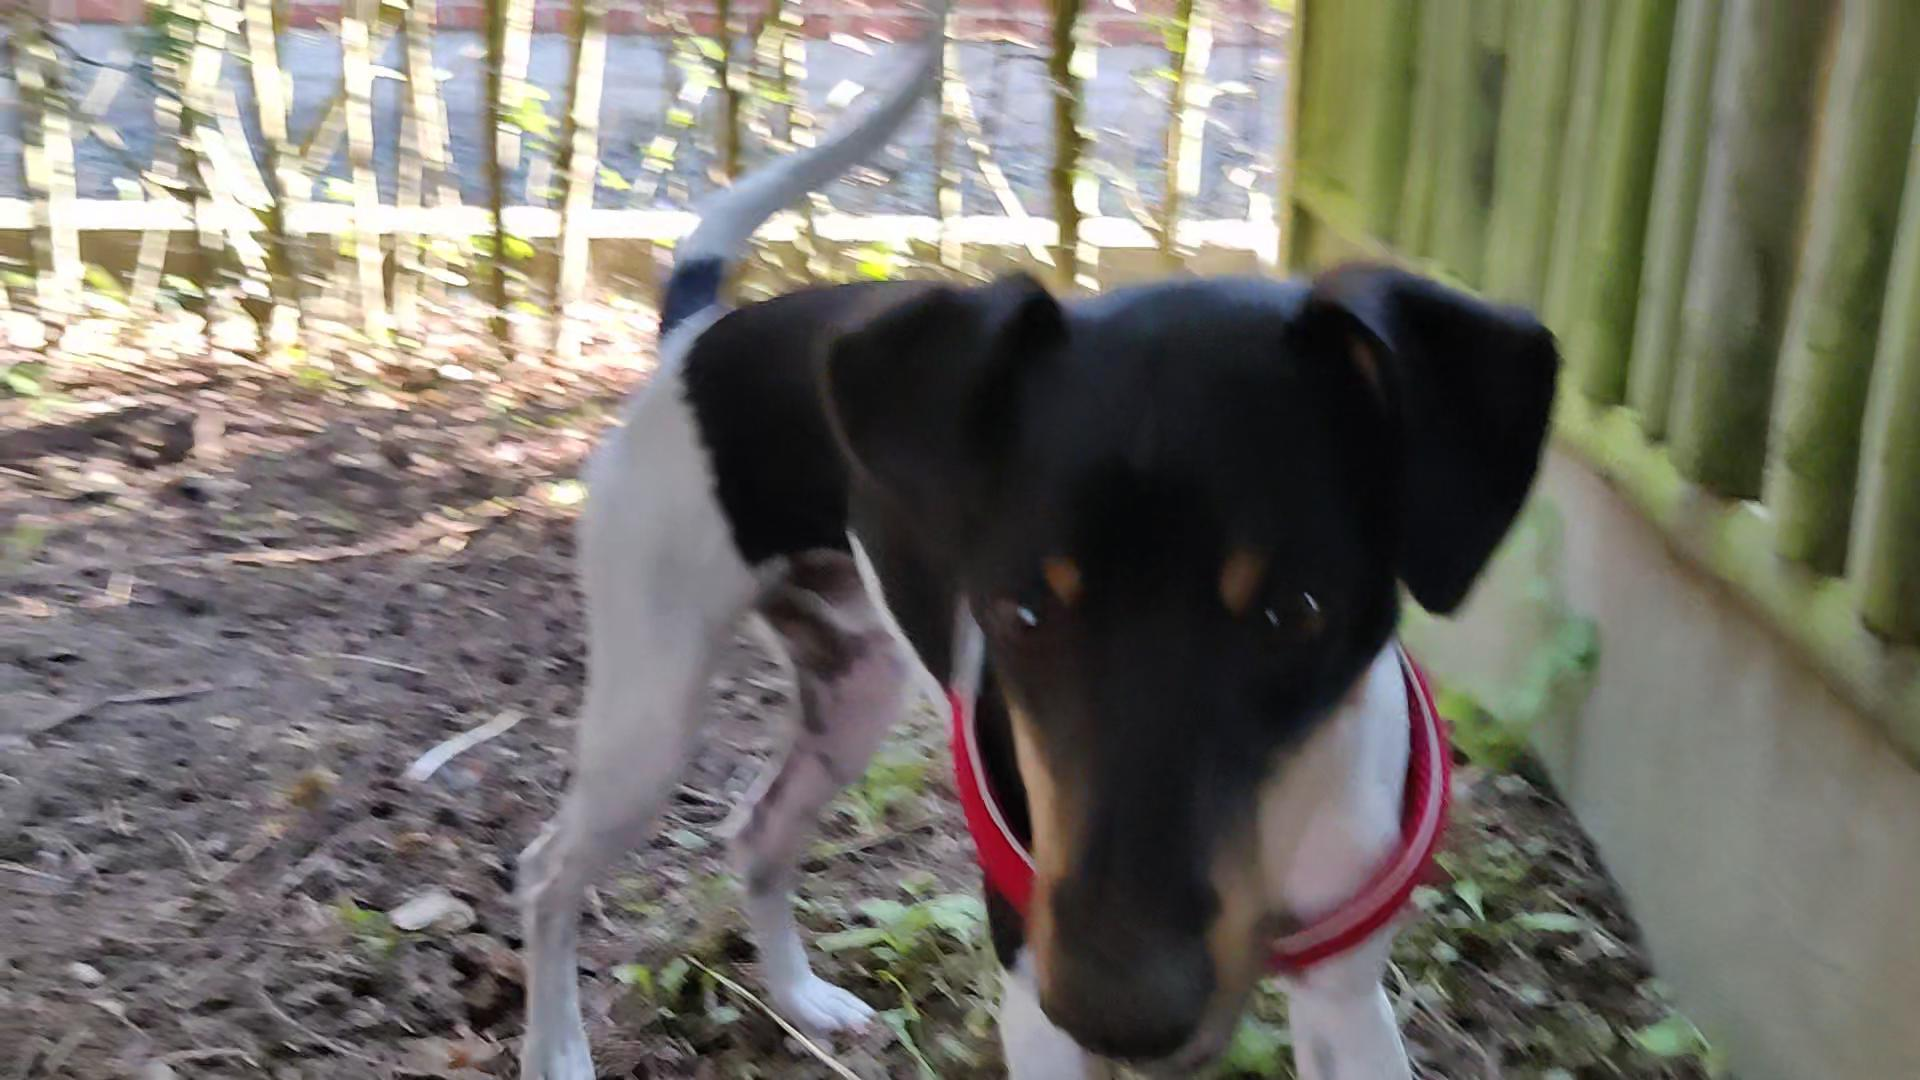Dog: (506, 24, 1576, 1079)
